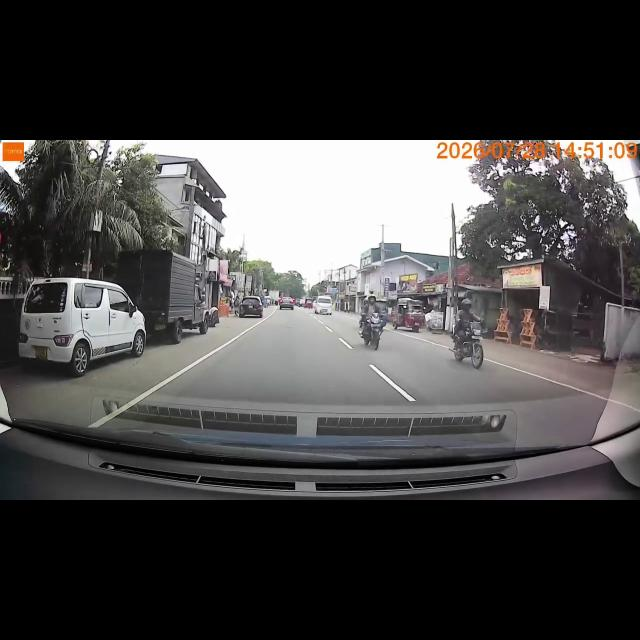broken_line: (339, 336, 417, 406)
car: (34, 277, 136, 363), (242, 298, 262, 316), (318, 296, 332, 314), (280, 298, 294, 310)
helmet: (460, 298, 474, 312), (366, 296, 376, 304)
motorcycle: (455, 328, 485, 364), (361, 318, 381, 348)
person: (457, 300, 477, 340), (362, 292, 378, 334)
truck: (141, 255, 205, 333)
